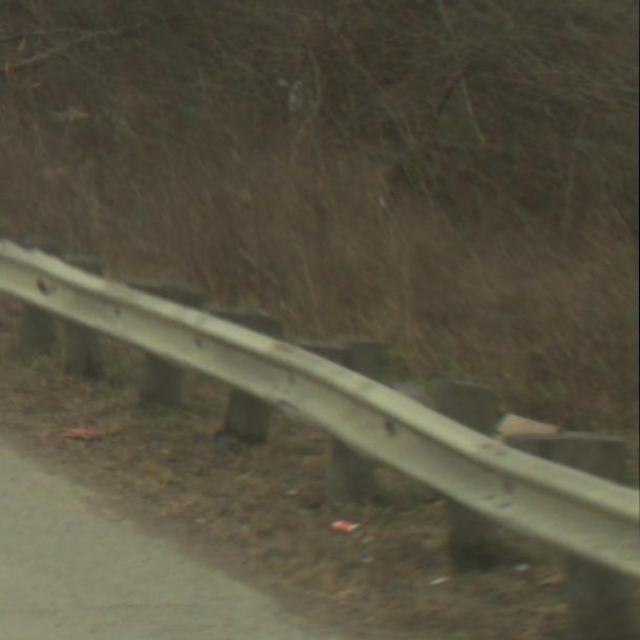Guard rail: (0, 233, 640, 640)
